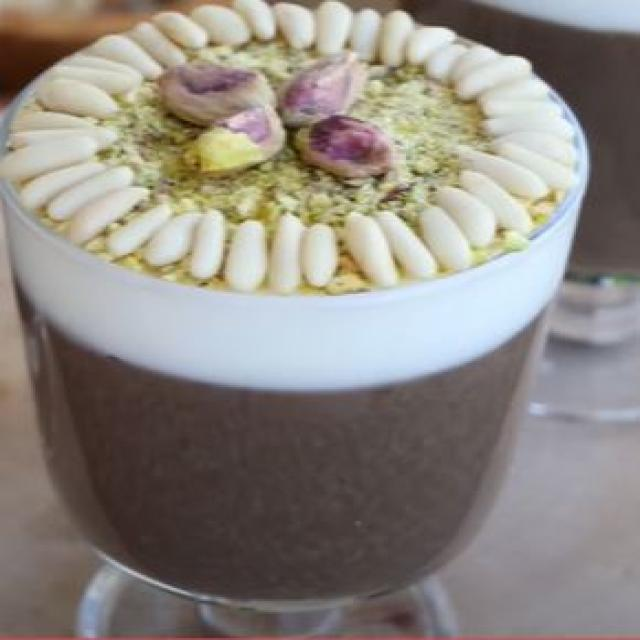asida-zkoukou: (26, 16, 616, 610)
